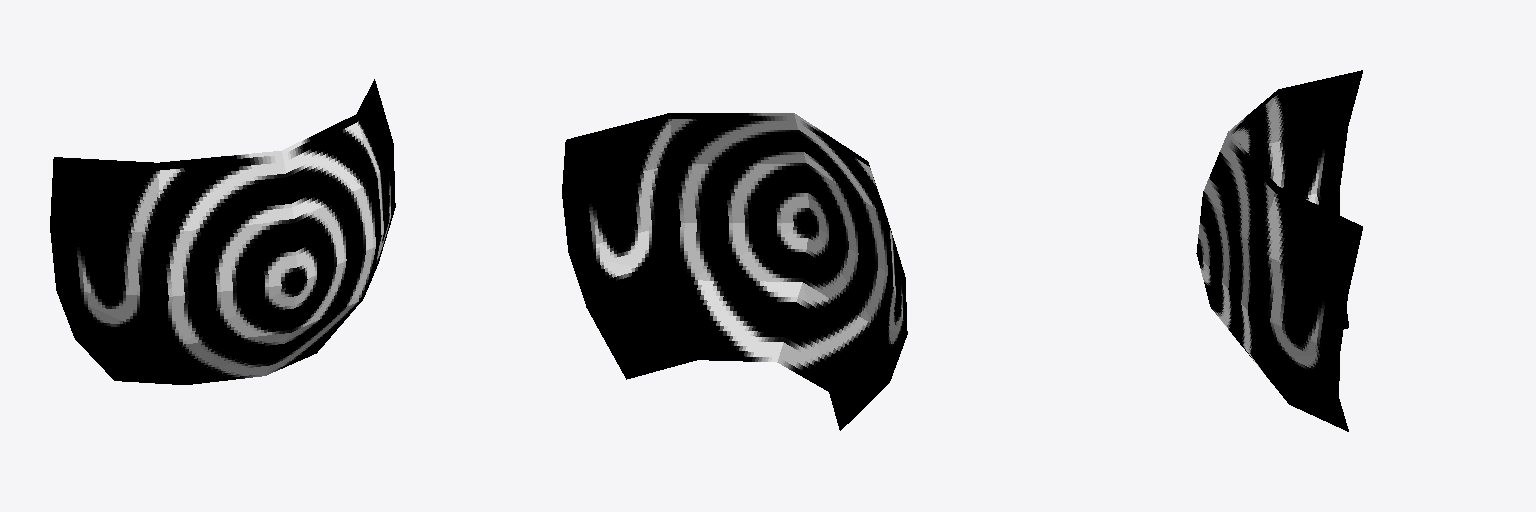
The picture shows the model from 3 angles: view 1: azimuth 30°, elevation 25°; view 2: azimuth 150°, elevation 25°; view 3: azimuth 270°, elevation 25°; orthographic projection.
Visible parts, largest first — view 1: polygon0; view 2: polygon0; view 3: polygon0.
Boxes of the visible parts, x1,y1,x2,y2 form: polygon0: [50, 79, 395, 384]; polygon0: [562, 113, 907, 430]; polygon0: [1196, 70, 1362, 431].
Bounding box in the file's own units: 4.04 × 2.79 × 1.7.
1 materials, 1 textured.